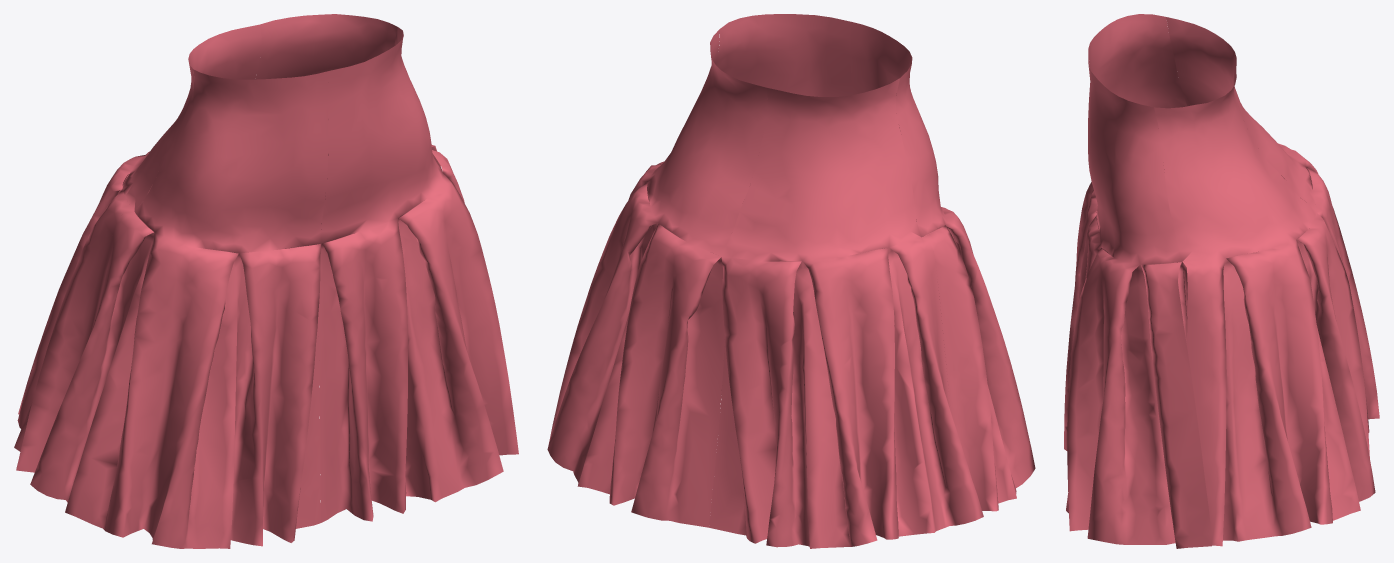
Rendered from Falda.fbx.
The picture shows the model from 3 angles, left to right: view 1: azimuth 30°, elevation 25°; view 2: azimuth 150°, elevation 25°; view 3: azimuth 270°, elevation 25°; orthographic projection. The views are drawn at different scales.
Visible parts, largest first — view 1: uploads_files_2976828_pleated_cloth1; view 2: uploads_files_2976828_pleated_cloth1; view 3: uploads_files_2976828_pleated_cloth1.
Boxes of the visible parts, box(x1,y1,x2,y2) form: uploads_files_2976828_pleated_cloth1: box(14, 14, 518, 548); uploads_files_2976828_pleated_cloth1: box(547, 14, 1035, 548); uploads_files_2976828_pleated_cloth1: box(1064, 14, 1379, 548).
Size of the model in its own units: 4333 by 4015 by 2717.
